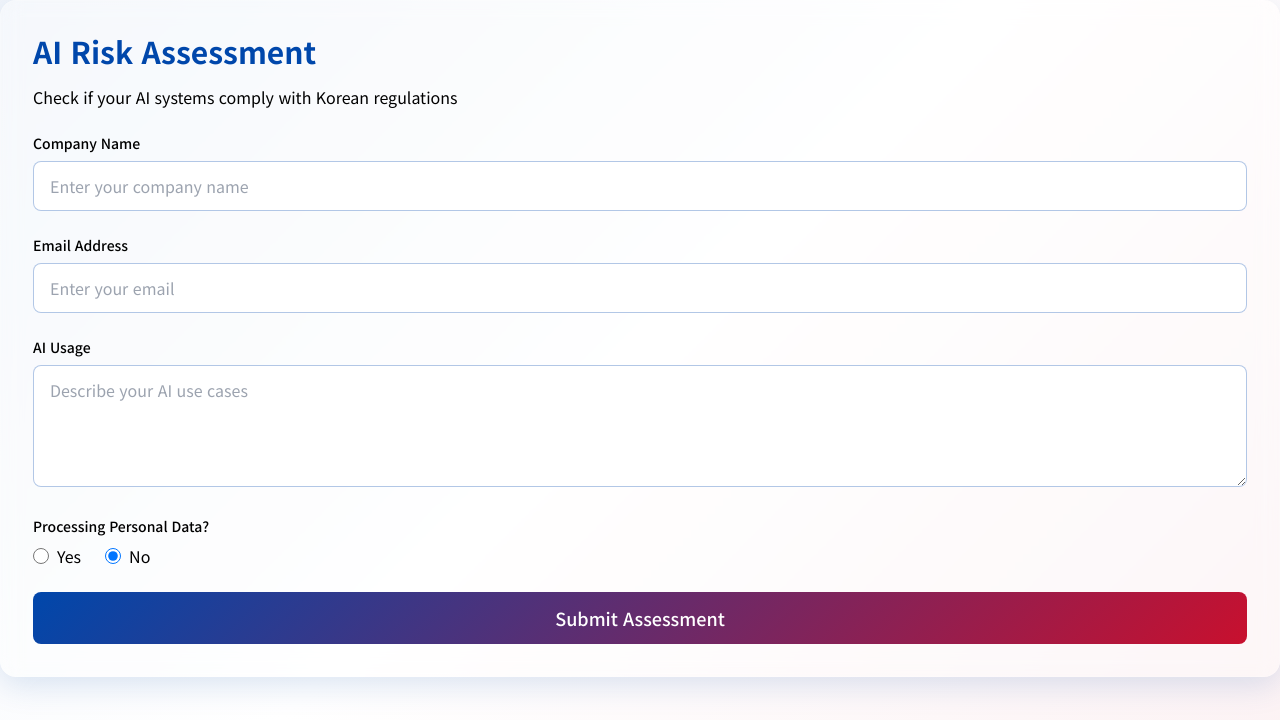
RiskAssessment Component › disables submit button while submitting
Type "Test Company" into the field labelled "Company Name" at (640,186), box left=33, top=161, right=1247, bottom=211
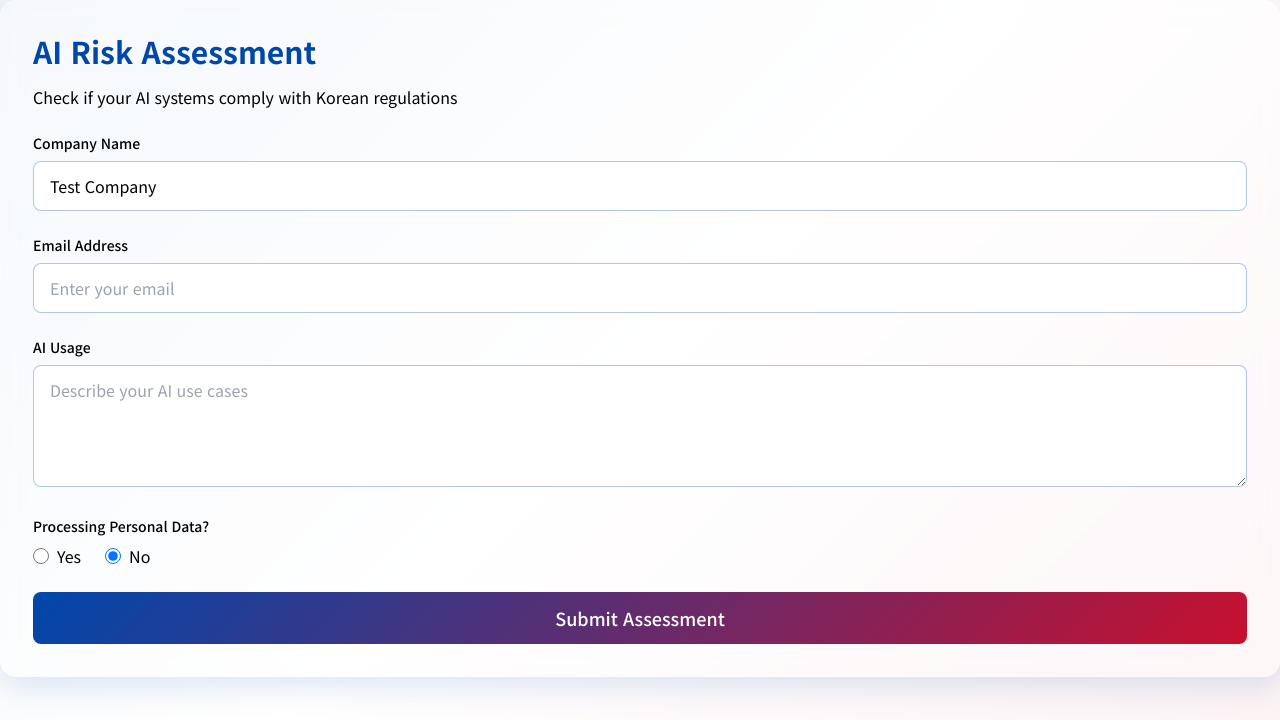
Type "test@example.com" into the field labelled "Email Address" at (640,288), box left=33, top=263, right=1247, bottom=313
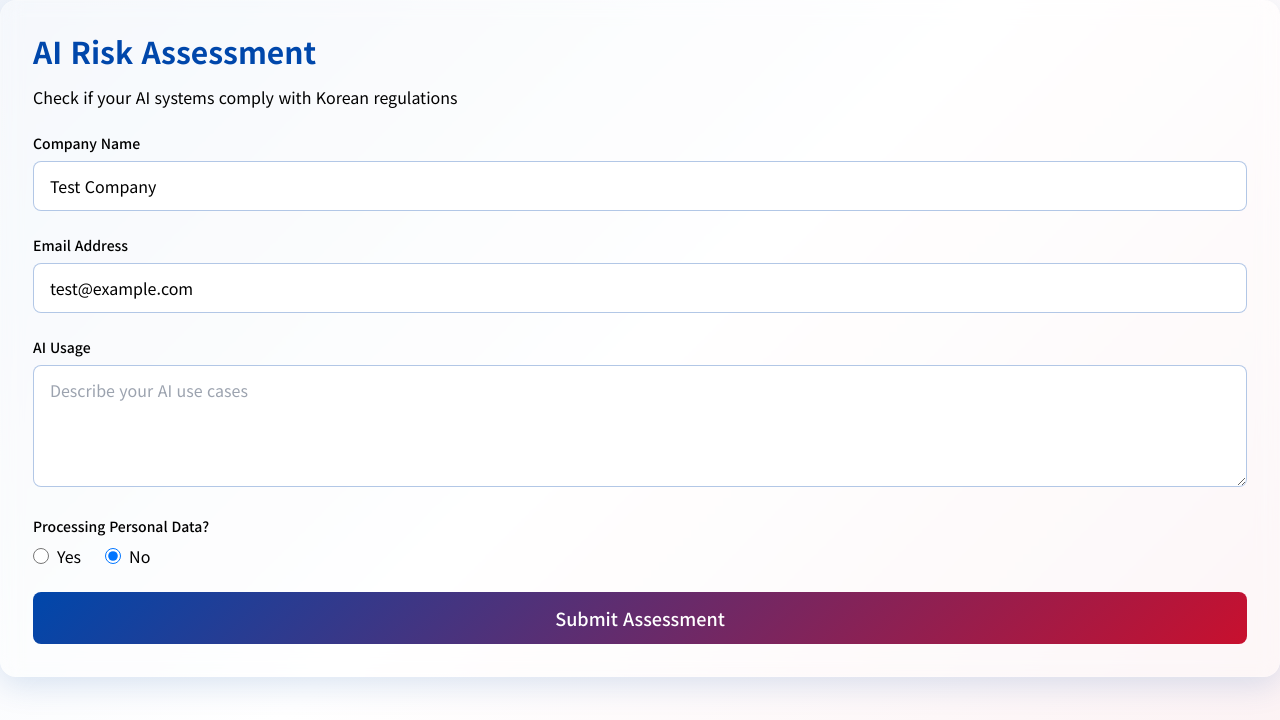
Type "Machine learning models" into the text box labelled "AI Usage" at (640,426), box left=33, top=365, right=1247, bottom=487
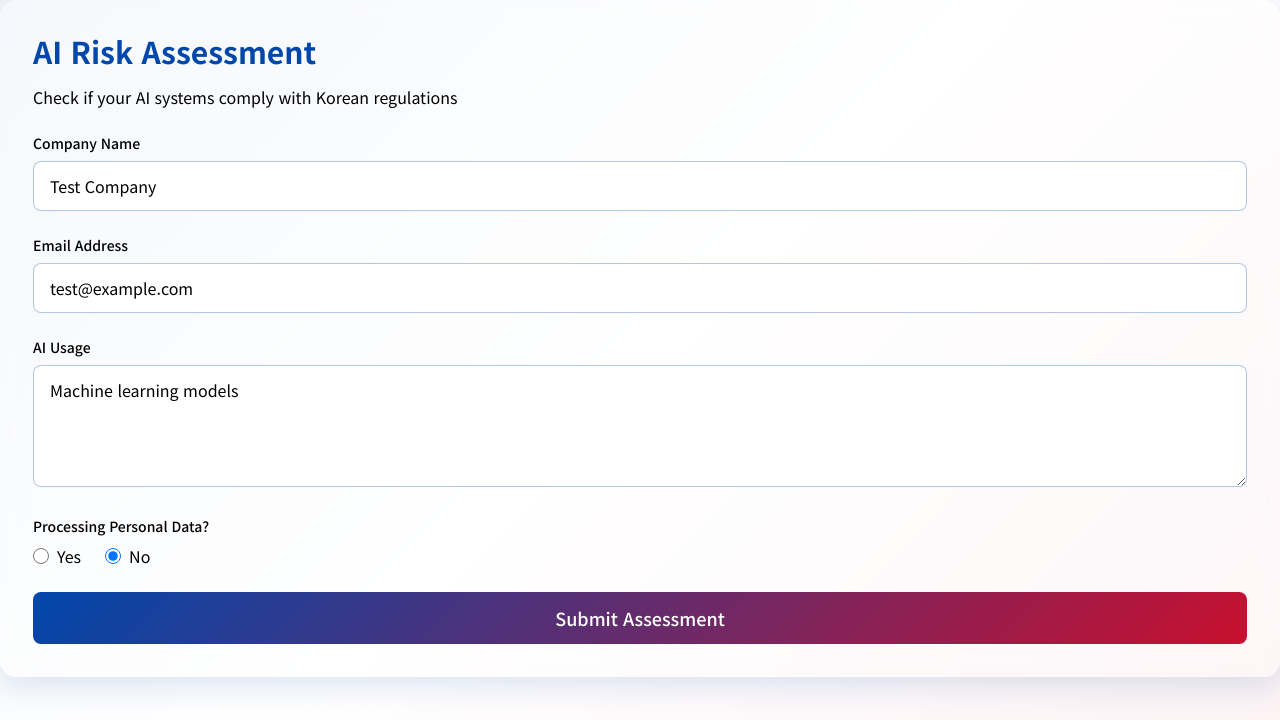
Click the button "Submit Assessment" at (640,618), box left=33, top=592, right=1247, bottom=644
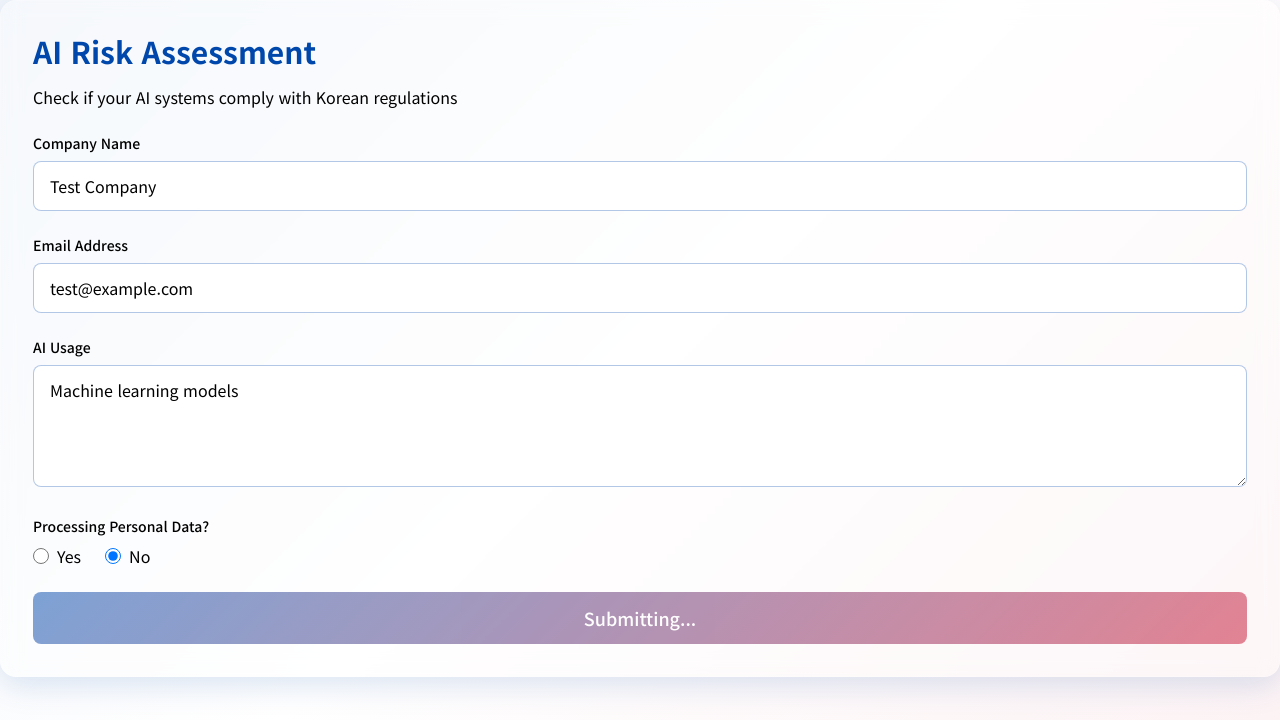
Now the button "Submitting..." is disabled, box left=33, top=592, right=1247, bottom=644
